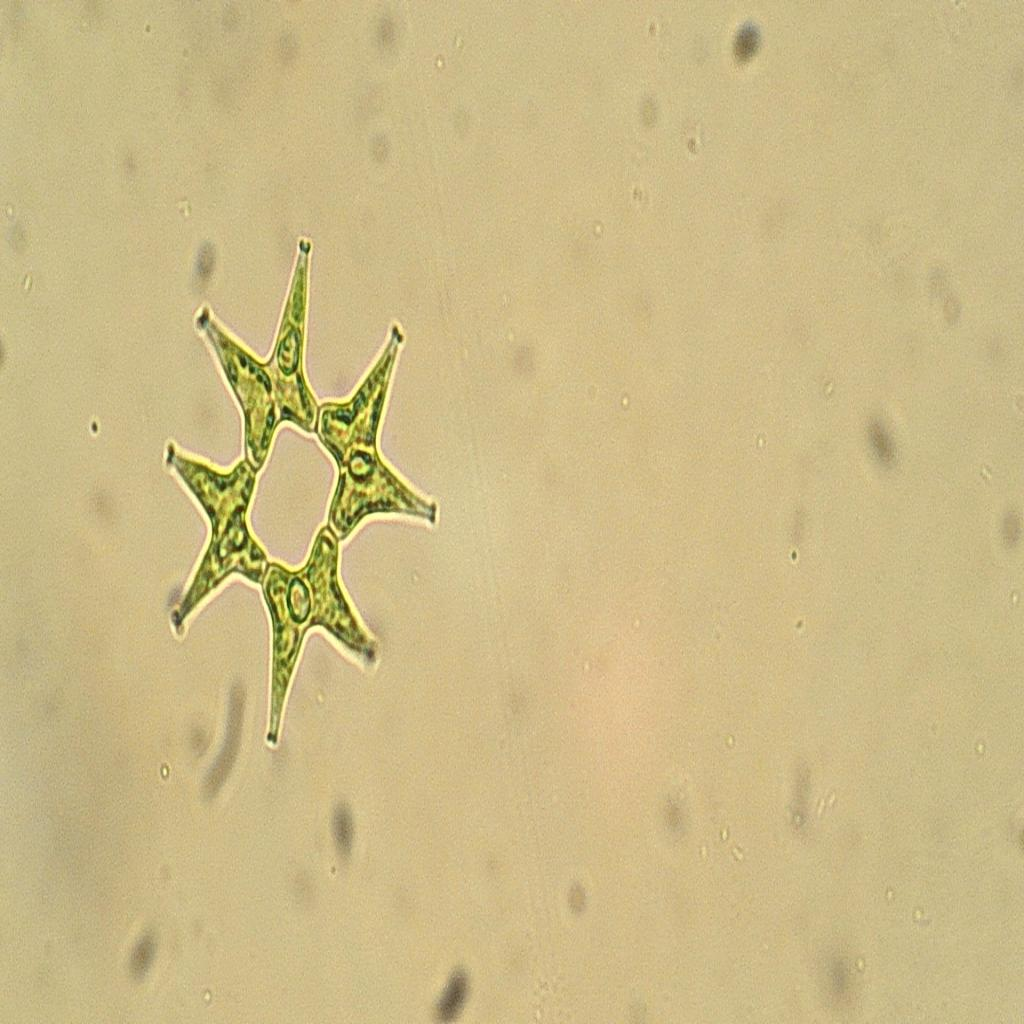Pediastrum_75O: (136, 218, 456, 762)
